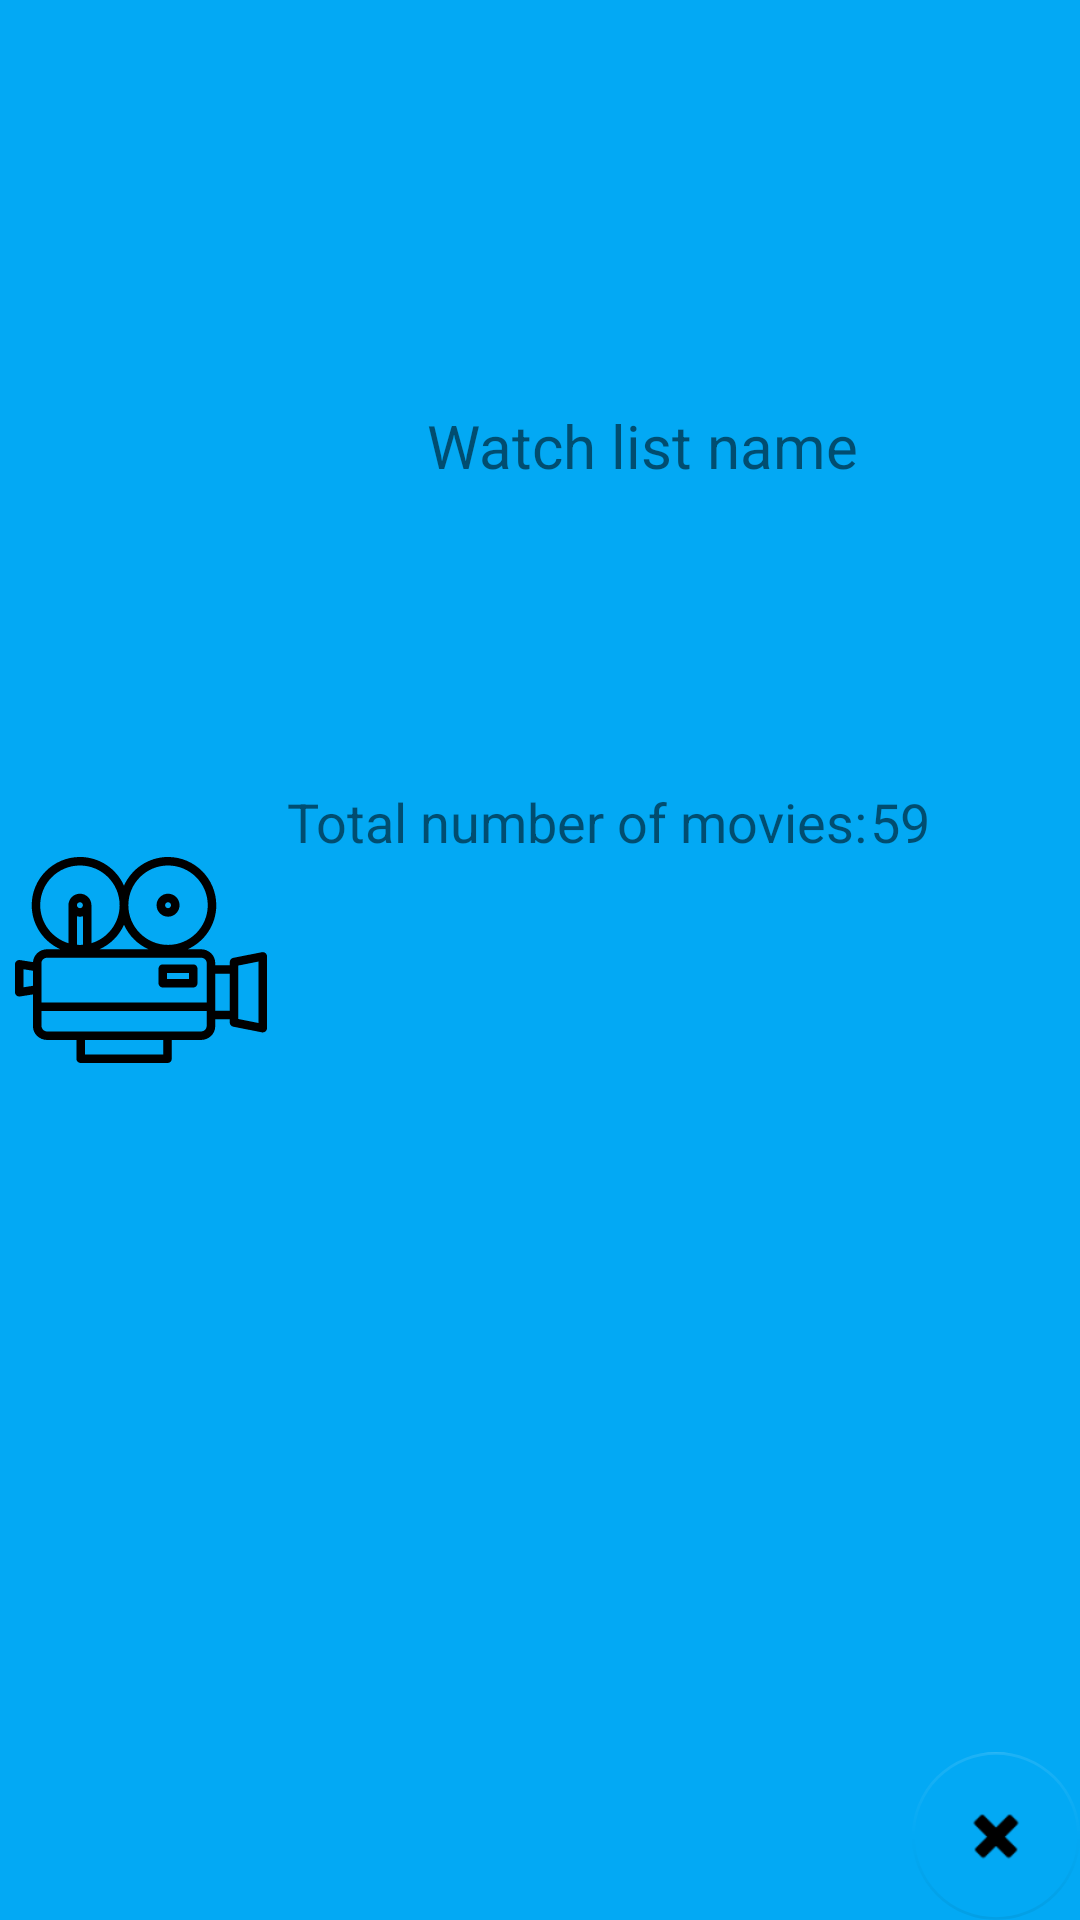

Named icons in this screenshot (1080w x 1920h) and their centers, (x=x, y=y):
movie camera watch list: (x=141, y=960)
